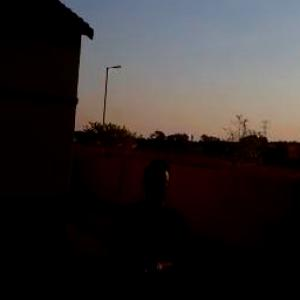follow: (105, 142, 190, 299)
